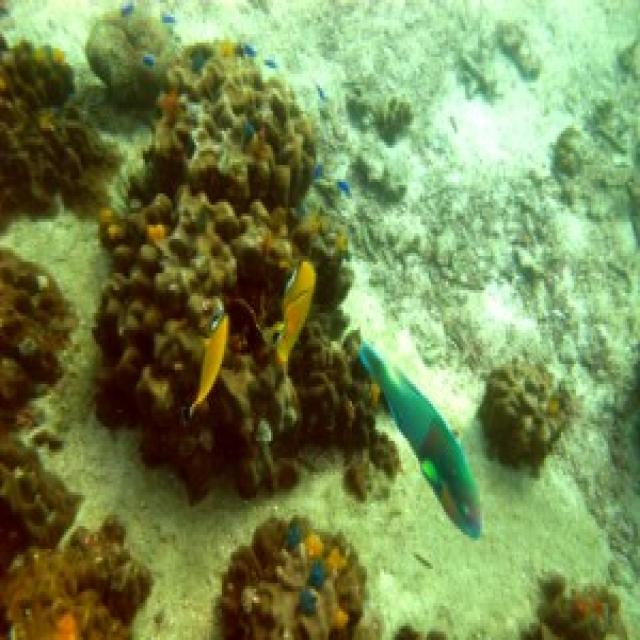Healthy: (95, 44, 398, 499), (1, 38, 116, 229), (216, 519, 366, 638), (3, 519, 150, 638), (1, 248, 76, 436), (477, 359, 573, 473), (1, 439, 80, 539), (522, 576, 626, 638)
